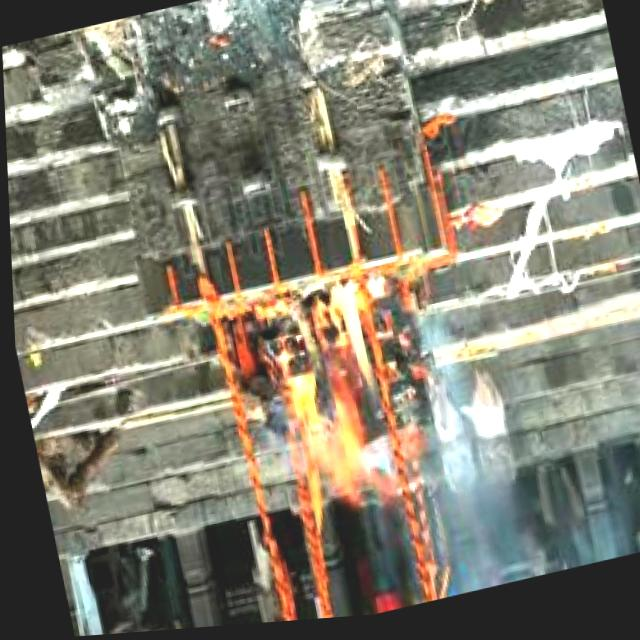Fire: (258, 278, 422, 522)
